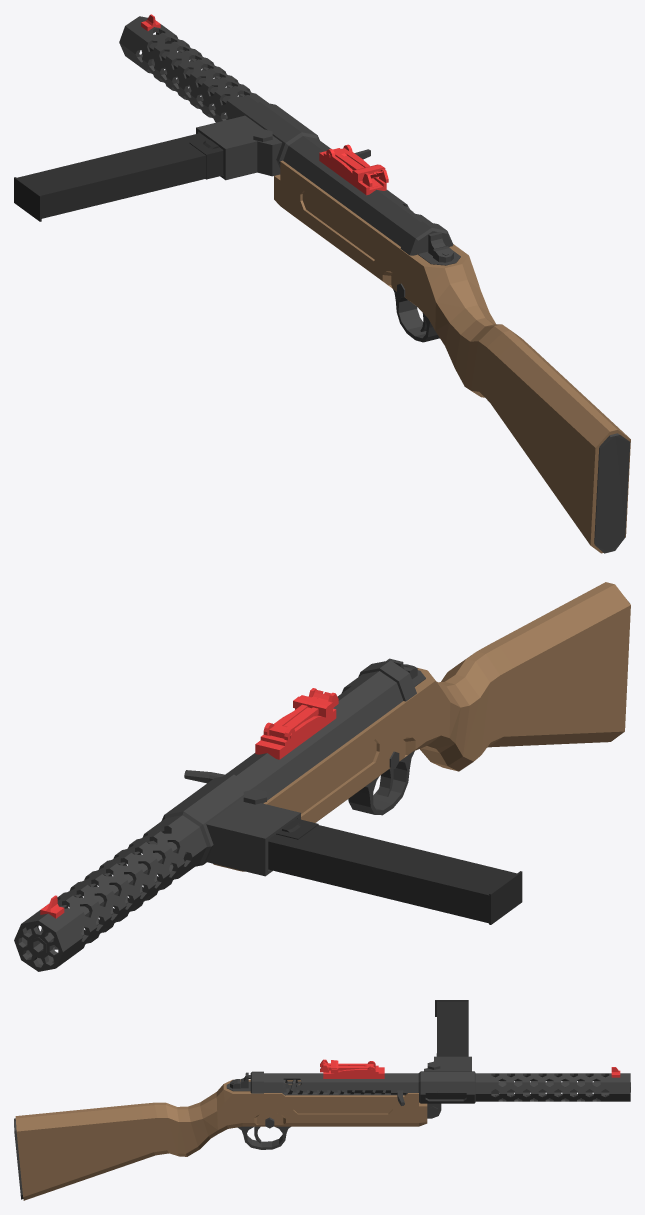
The model's file is subfusil_15.glb.
3 renders of one model, top to bottom at view 1: azimuth 30°, elevation 25°; view 2: azimuth 150°, elevation 25°; view 3: azimuth 270°, elevation 25°, orthographic. The views are drawn at different scales.
Visible parts, largest first — view 1: p9_accent, p1_paint, p52_mag, p51_paint, p5_paint, p39_paint, p13_del; view 2: p9_accent, p1_paint, p52_mag, p5_paint, p39_paint, p13_del, p17_del, p0_paint; view 3: p9_accent, p1_paint, p52_mag, p4_paint, p13_del, p5_paint, p39_paint, p0_paint.
Part boxes in pixels (x1=…): p9_accent: x1=274, y1=160, x2=630, y2=553; p1_paint: x1=119, y1=16, x2=453, y2=255; p52_mag: x1=14, y1=133, x2=223, y2=221; p51_paint: x1=594, y1=433, x2=630, y2=553; p5_paint: x1=196, y1=115, x2=281, y2=180; p39_paint: x1=393, y1=289, x2=439, y2=342; p13_del: x1=319, y1=144, x2=386, y2=195; p9_accent: x1=213, y1=582, x2=630, y2=871; p1_paint: x1=14, y1=660, x2=416, y2=971; p52_mag: x1=268, y1=818, x2=522, y2=924; p5_paint: x1=206, y1=797, x2=300, y2=876; p39_paint: x1=348, y1=751, x2=414, y2=815; p13_del: x1=255, y1=708, x2=336, y2=759; p17_del: x1=269, y1=689, x2=331, y2=738; p0_paint: x1=30, y1=833, x2=186, y2=955; p9_accent: x1=15, y1=1079, x2=427, y2=1200; p1_paint: x1=250, y1=1071, x2=630, y2=1103; p52_mag: x1=435, y1=1000, x2=468, y2=1056; p4_paint: x1=347, y1=1085, x2=466, y2=1099; p13_del: x1=323, y1=1061, x2=384, y2=1078; p5_paint: x1=424, y1=1056, x2=471, y2=1071; p39_paint: x1=237, y1=1126, x2=290, y2=1149; p0_paint: x1=491, y1=1081, x2=630, y2=1093.
Bounding box in the file's own units: 0.3004 × 0.1978 × 0.812.
